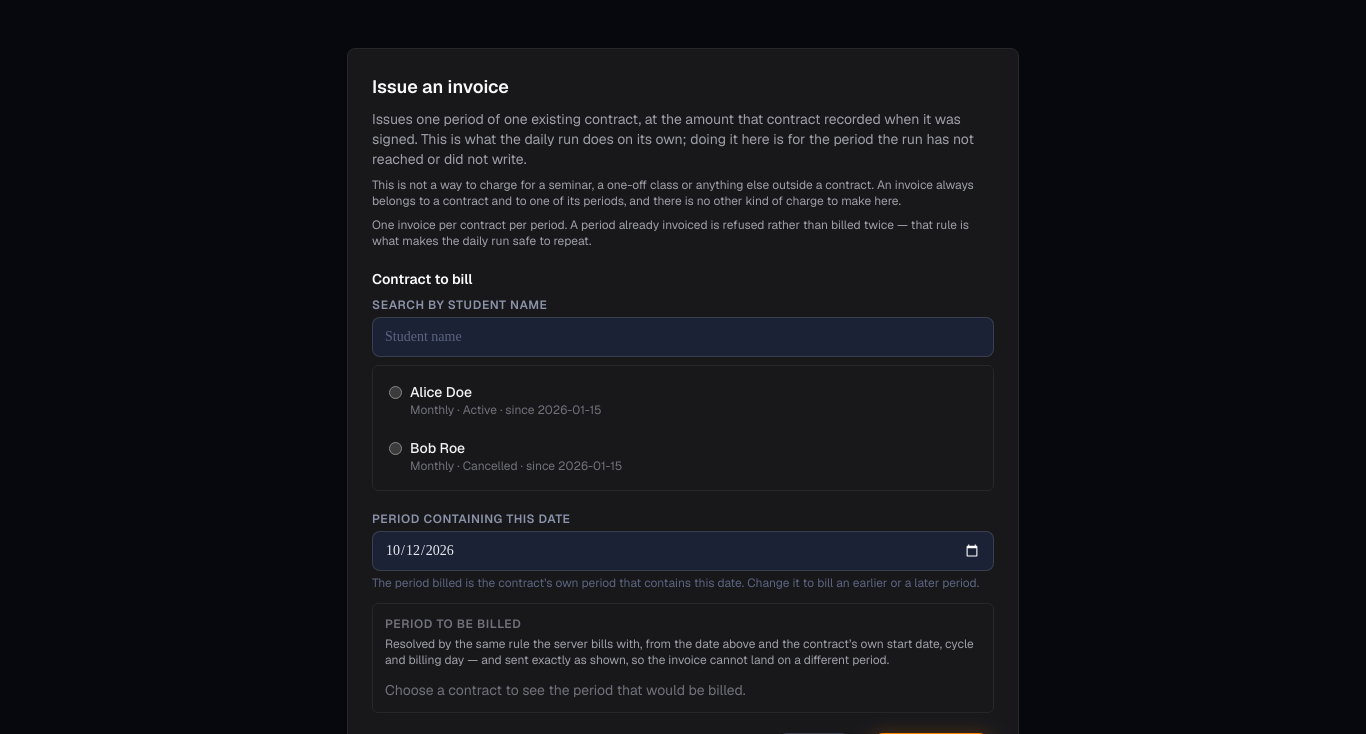
it: IssueInvoiceForm › names the contract and the period it bills, resolved by the shared rule
Click the radio button labelled "Alice Doe Monthly · Active · since 2026-01-15": (396, 392) [389,386,402,399]
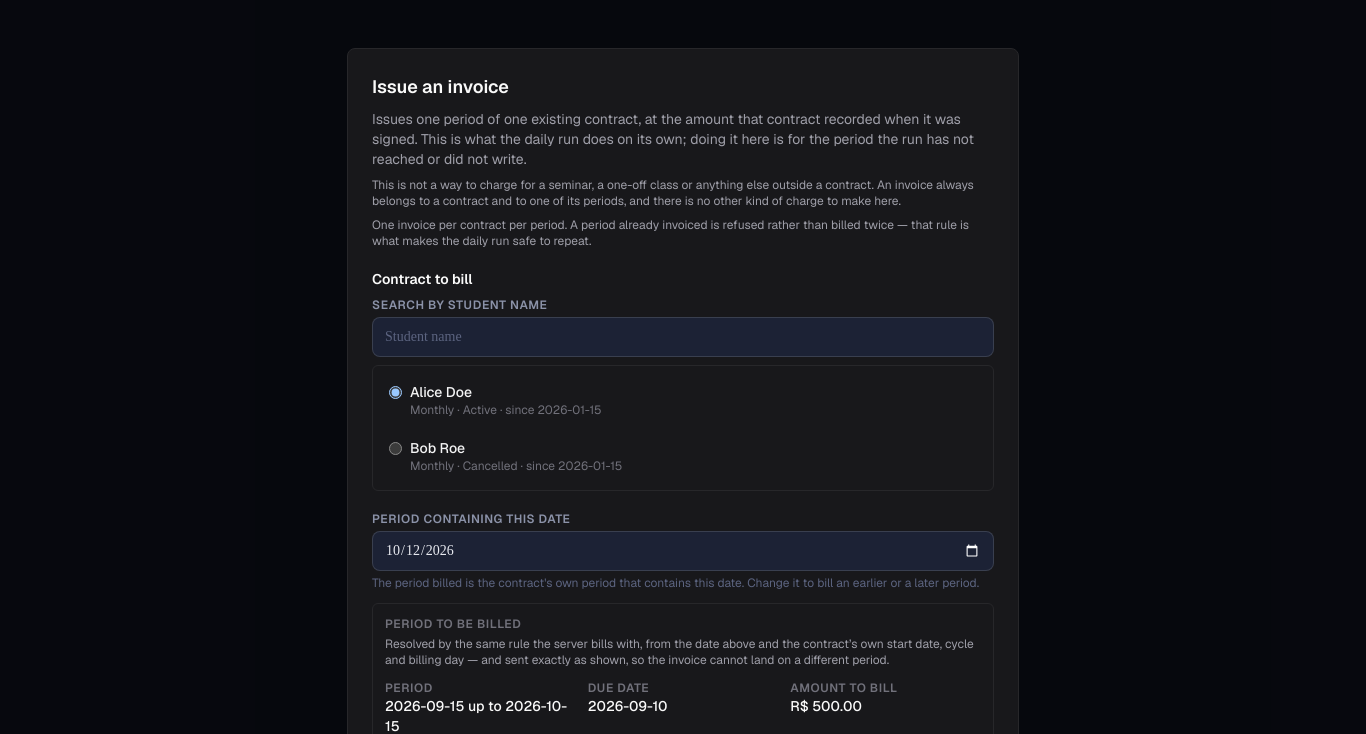
In the date field labelled "Period containing this date": (683, 551) [372,531,994,571], type "2026-08-20"
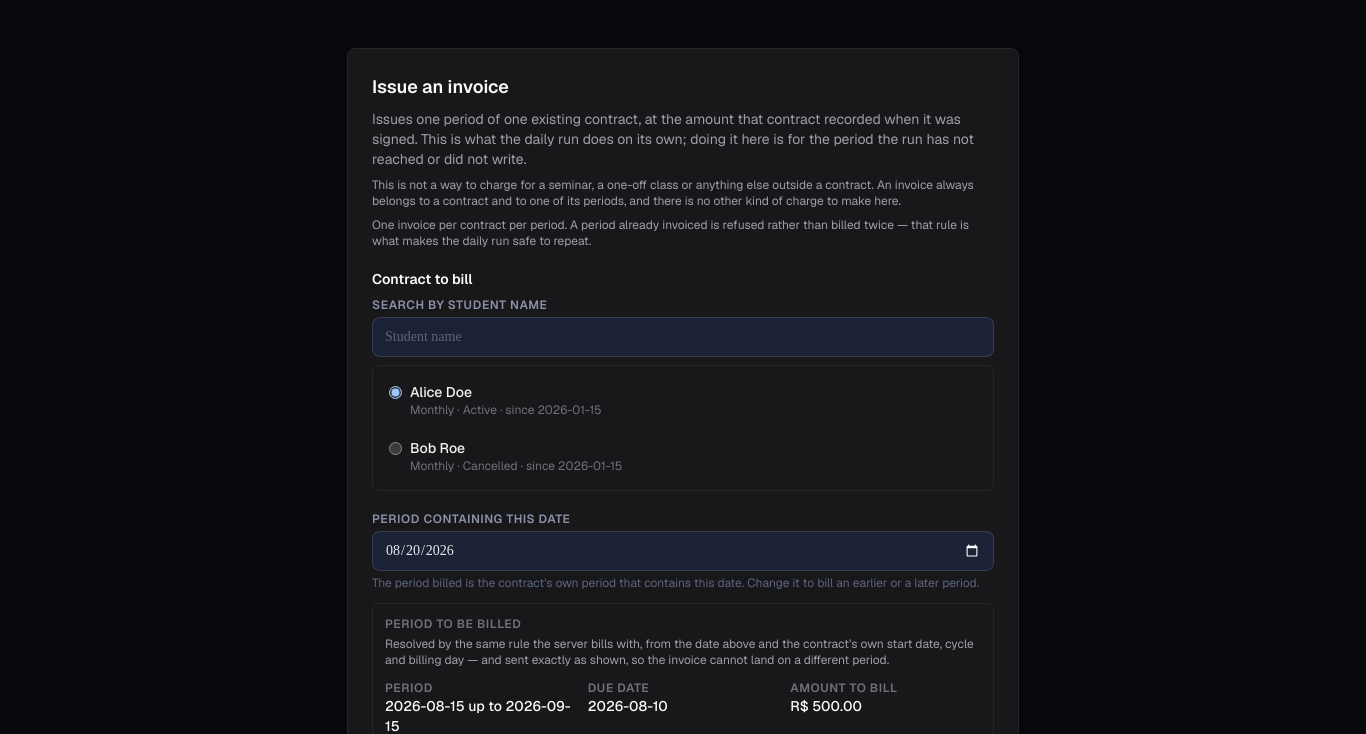
Check: the text "R$ 500.00" is shown, box [790,697,862,715]
Check: the text "2026-08-10" is shown, box [588,697,668,715]
